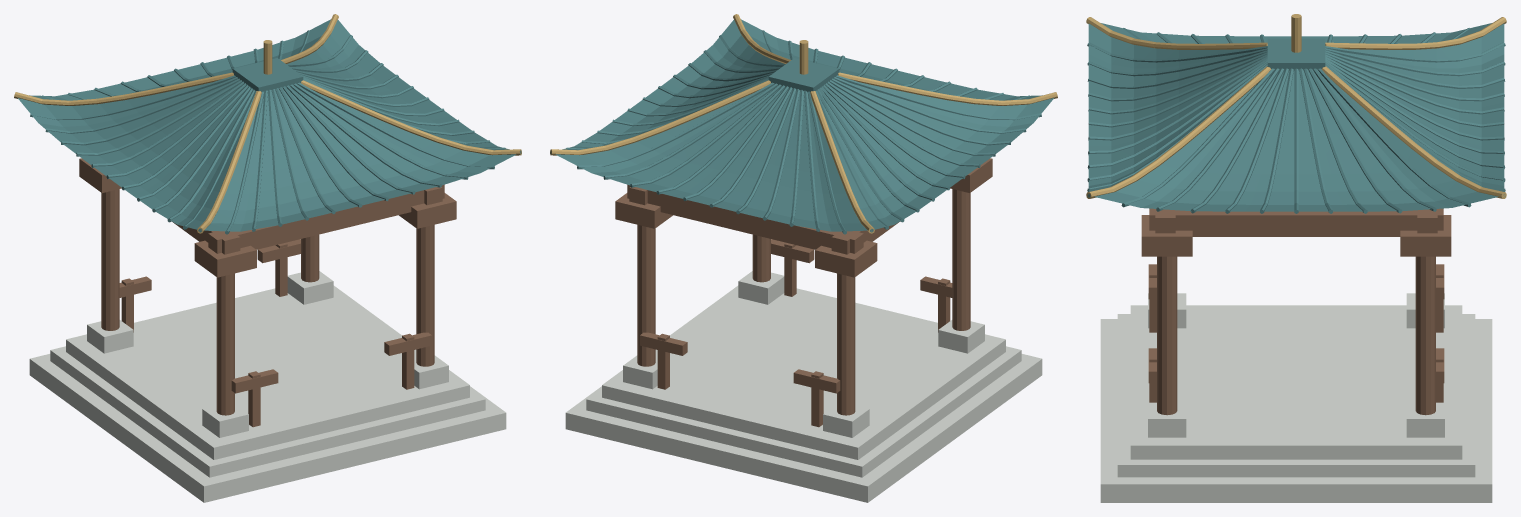
File: cultivation_pavilion.fbx
The picture shows the model from 3 angles, left to right: view 1: azimuth 30°, elevation 25°; view 2: azimuth 150°, elevation 25°; view 3: azimuth 270°, elevation 25°; orthographic projection. The views are drawn at different scales.
Parts seen in each view (by area): view 1: cultivation_pavilion; view 2: cultivation_pavilion; view 3: cultivation_pavilion.
Boxes of the visible parts, <box> form: cultivation_pavilion: <box>14,14,521,502</box>; cultivation_pavilion: <box>550,14,1057,502</box>; cultivation_pavilion: <box>1086,14,1506,502</box>.
Size of the model in its own units: 49422 by 49422 by 52400.
